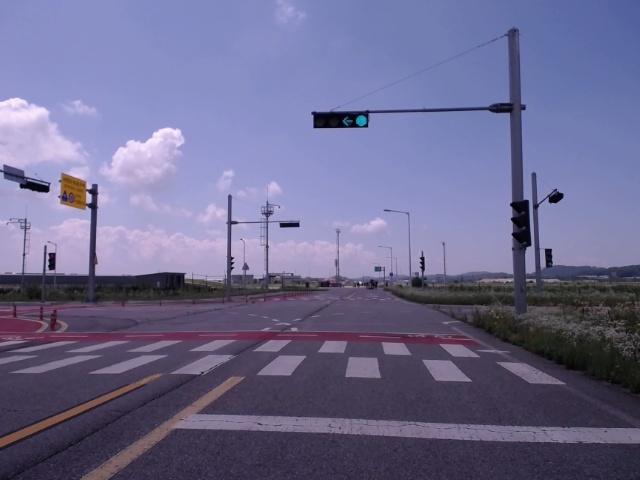all_green_4: (311, 112, 369, 129)
